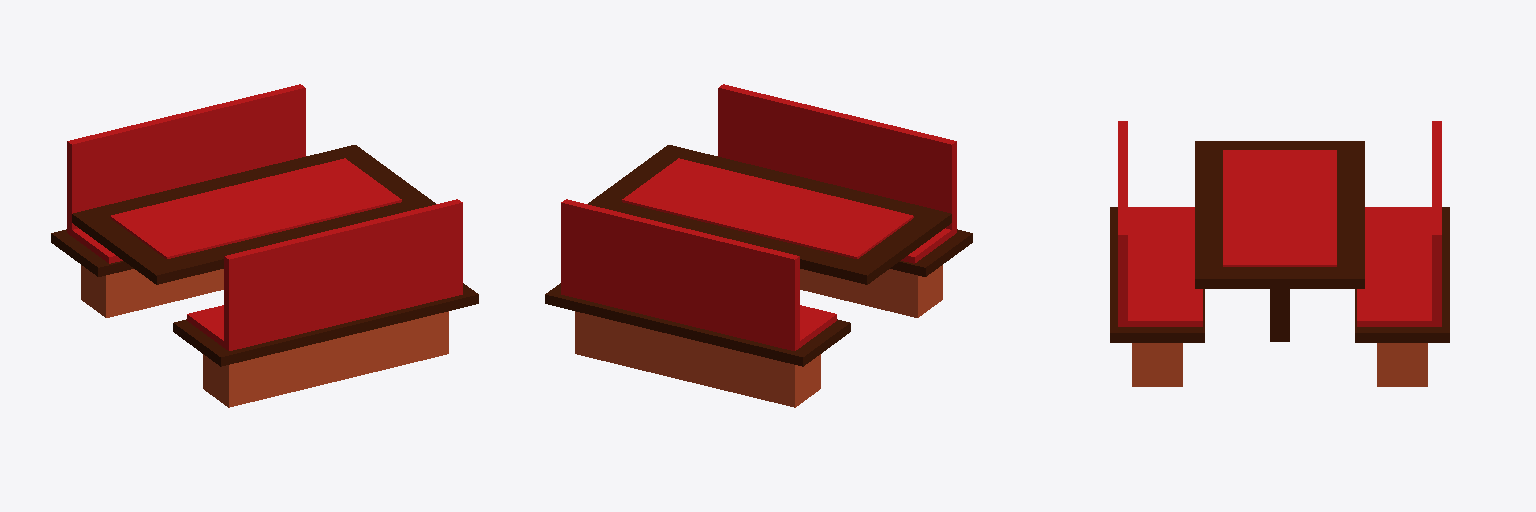
File: simpleBooth.obj
The picture shows the model from 3 angles: view 1: azimuth 30°, elevation 25°; view 2: azimuth 150°, elevation 25°; view 3: azimuth 270°, elevation 25°; orthographic projection.
Visible parts, largest first — view 1: Cube.002_Cube.007; view 2: Cube.002_Cube.007; view 3: Cube.002_Cube.007.
Boxes of the visible parts, box(x1,y1,x2,y2) form: Cube.002_Cube.007: box(51, 84, 478, 407); Cube.002_Cube.007: box(545, 84, 972, 407); Cube.002_Cube.007: box(1110, 121, 1449, 386).
Bounding box in the file's own units: 0.8492 × 0.4689 × 0.8806.